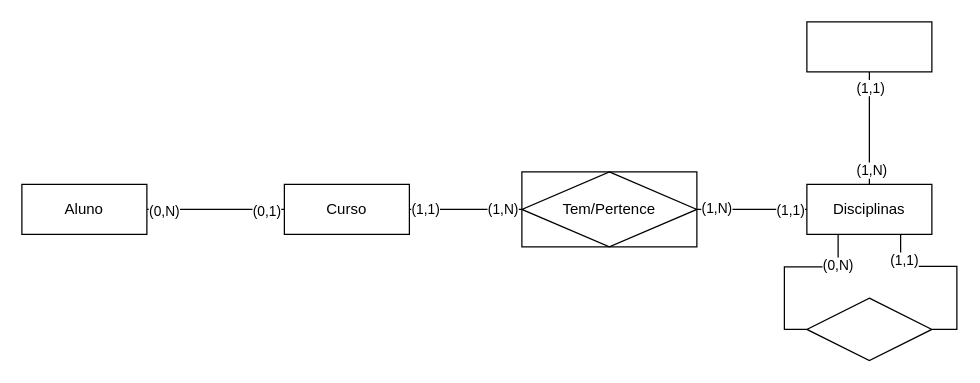
Image size: 980x383. Some labels were removed from this diagram. Here are the shapes that lost their labels. From the top down, the centre of each, then its label:
point (869, 46): Departamento
point (869, 329): pré-requisitos
